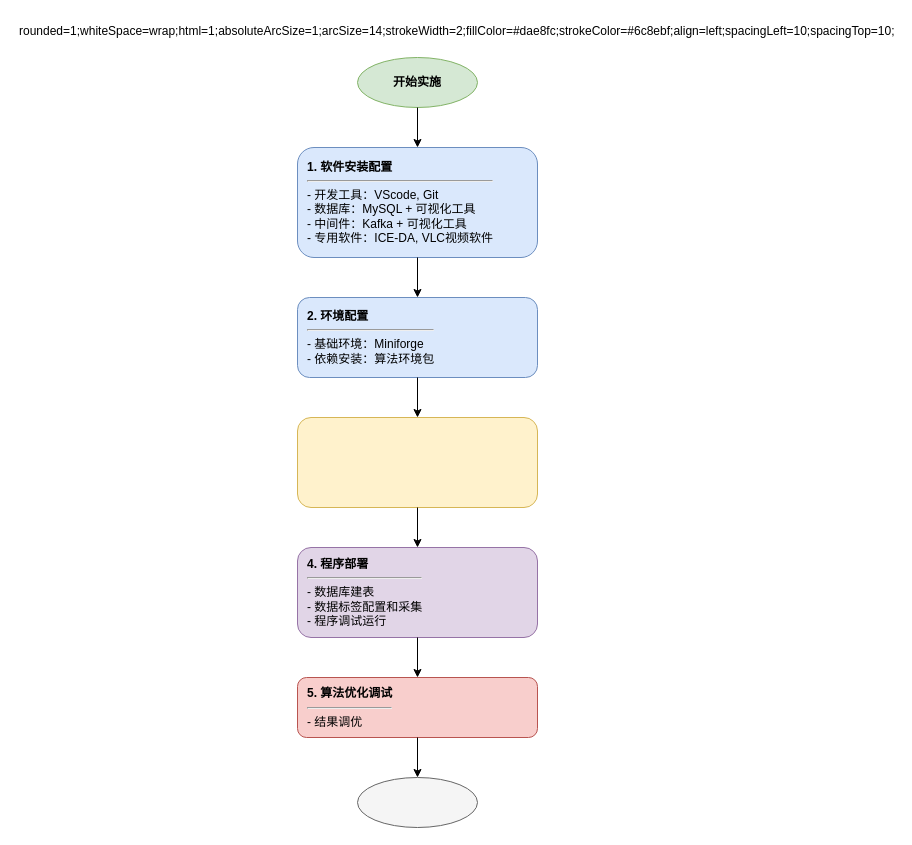
This 912x845 diagram has some shape labels left out. The centre of each missing label's shape, as x and y in pixels:
3. 链路调试 - 网络链路：视频流 / OPC服务器 IP联通 - 数据链路：MySQL / Kafka 读写测试: the point at 417,462
优化完成: the point at 417,802
